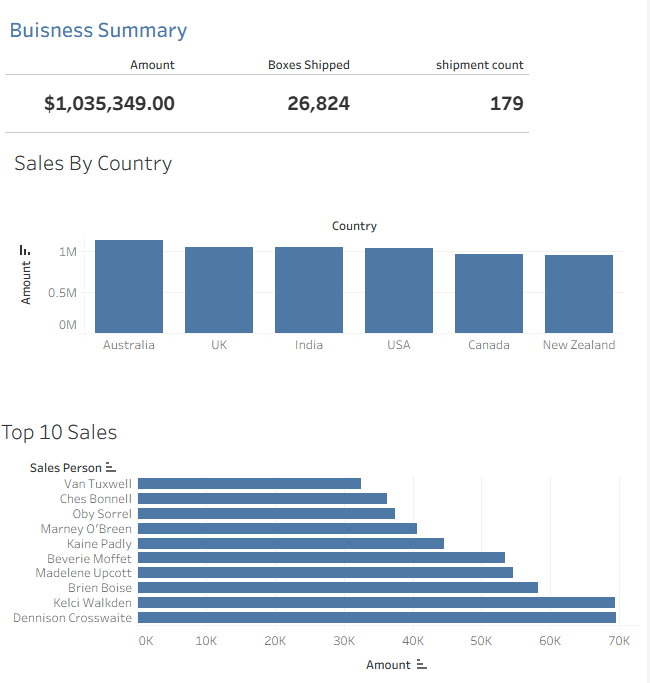

Layout of this report page (visuals, bound fields, positions):
{"tool":"tableau","page":{"name":"Dashboard 1","canvas":[650,860],"ordinal":0},"visuals":[{"type":"worksheet","title":"Sheet 3","mark":"Automatic","box":[8,16.3,524,153.2]},{"type":"worksheet","title":"Sheet 1","mark":"Automatic","rows":["Amount"],"cols":["Country"],"box":[13,183.3,614,263.7]}]}

Visuals, with their boxes on the page's 650x860 design canvas (x1, y1, x2, y2). These are canvas units, not pixel positions in the 650x683 screenshot, which may show the page scaled, cropped or inside an application window:
"Sheet 3" worksheet: x1=8, y1=16, x2=532, y2=170
"Sheet 1" worksheet: x1=13, y1=183, x2=627, y2=447
